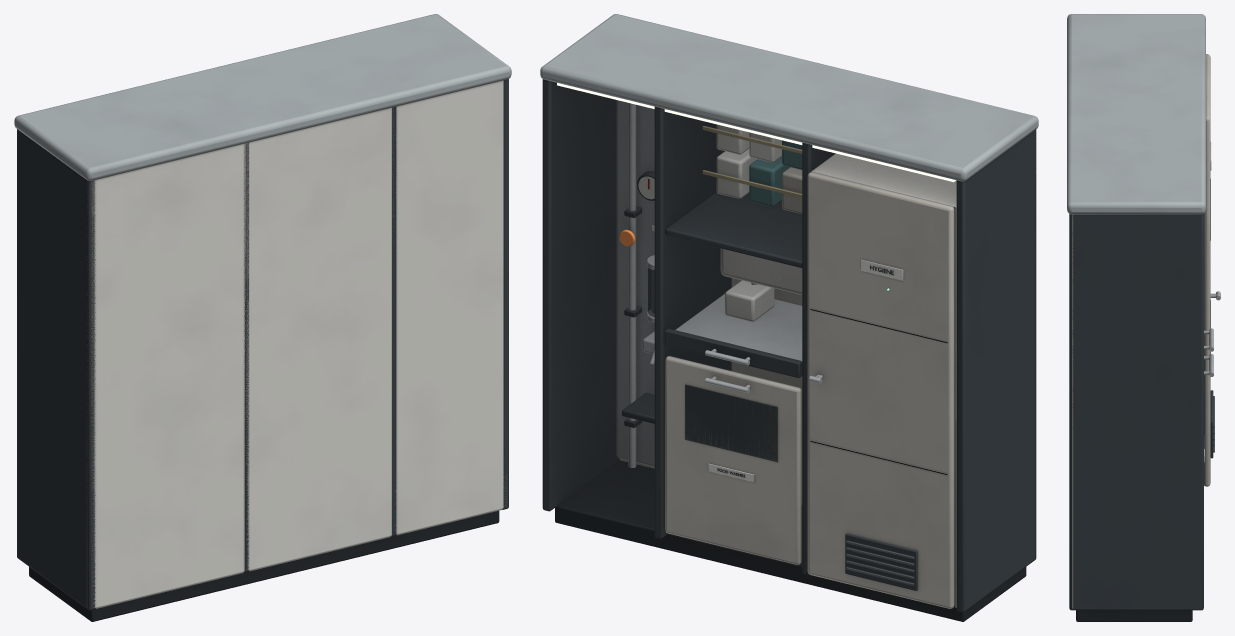
File: general_module_rack.glb
3 renders of one model, left to right at view 1: azimuth 30°, elevation 25°; view 2: azimuth 150°, elevation 25°; view 3: azimuth 270°, elevation 25°, orthographic. The views are drawn at different scales.
Parts seen in each view (by area): view 1: rack_back_shell_white, rack_top_panel_cool, rack_post_0_frame_graphite, plinth_deep_graphite, rack_post_196_frame_graphite, rack_post_143_frame_graphite, rack_post_73_frame_graphite; view 2: Cubicle_Door_panel_warm, rack_top_panel_cool, rack_post_0_frame_graphite, rack_post_196_frame_graphite, warmer_door_panel_warm, rack_post_143_frame_graphite, plinth_deep_graphite, water_panel_panel_cool, galley_shelf_upper_frame_graphite, warmer_window_dark_glass, Galley_Shelf_tray_satin_alloy, cubicle_shell_shell_white (+16 smaller); view 3: rack_post_196_frame_graphite, rack_top_panel_cool, Cubicle_Door_panel_warm, plinth_deep_graphite, rack_back_shell_white, Cubicle_Door_vent_dark_alloy.
Part boxes in pixels (x1=…): rack_back_shell_white: x1=86, y1=80, x2=507, y2=608; rack_top_panel_cool: x1=14, y1=14, x2=511, y2=180; rack_post_0_frame_graphite: x1=17, y1=129, x2=95, y2=610; plinth_deep_graphite: x1=29, y1=510, x2=499, y2=621; rack_post_196_frame_graphite: x1=502, y1=79, x2=508, y2=509; rack_post_143_frame_graphite: x1=391, y1=106, x2=396, y2=536; rack_post_73_frame_graphite: x1=243, y1=142, x2=249, y2=572; Cubicle_Door_panel_warm: x1=807, y1=172, x2=954, y2=608; rack_top_panel_cool: x1=540, y1=14, x2=1038, y2=181; rack_post_0_frame_graphite: x1=956, y1=129, x2=1036, y2=612; rack_post_196_frame_graphite: x1=542, y1=79, x2=619, y2=511; warmer_door_panel_warm: x1=665, y1=356, x2=801, y2=564; rack_post_143_frame_graphite: x1=654, y1=106, x2=731, y2=538; plinth_deep_graphite: x1=555, y1=460, x2=1026, y2=621; water_panel_panel_cool: x1=616, y1=100, x2=654, y2=466; galley_shelf_upper_frame_graphite: x1=665, y1=192, x2=802, y2=267; warmer_window_dark_glass: x1=685, y1=384, x2=777, y2=462; Galley_Shelf_tray_satin_alloy: x1=675, y1=293, x2=802, y2=373; cubicle_shell_shell_white: x1=811, y1=153, x2=956, y2=607; rack_post_196_frame_graphite: x1=1069, y1=214, x2=1203, y2=610; rack_top_panel_cool: x1=1067, y1=14, x2=1205, y2=214; Cubicle_Door_panel_warm: x1=1204, y1=54, x2=1210, y2=486; plinth_deep_graphite: x1=1076, y1=610, x2=1192, y2=621; rack_back_shell_white: x1=1072, y1=214, x2=1073, y2=608; Cubicle_Door_vent_dark_alloy: x1=1210, y1=390, x2=1214, y2=458.
Size of the model in its own units: 2.02 by 2.08 by 0.686.
6 materials, 1 textured.
